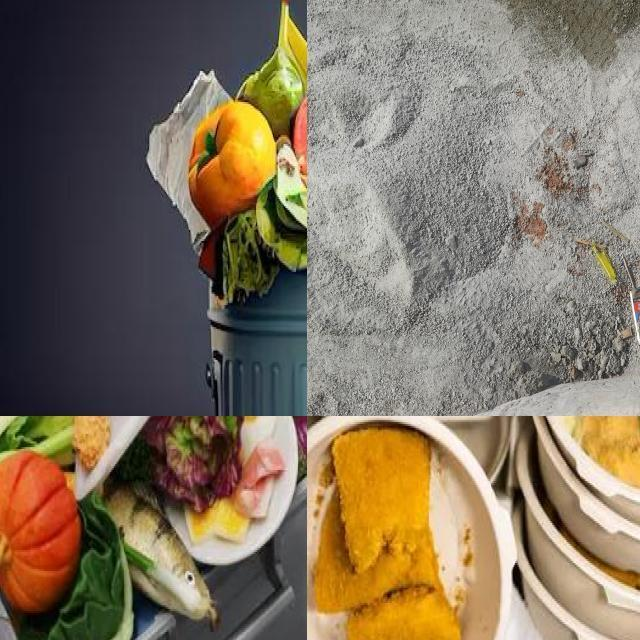Background: (307, 0, 640, 416)
Cig_pack: (630, 286, 640, 346)
Disposable: (307, 416, 514, 640), (513, 416, 640, 640)
Garbage: (307, 416, 640, 640), (0, 416, 307, 640), (140, 0, 307, 307)
Plastic: (592, 246, 617, 284)
contaminated_waste: (307, 416, 514, 640), (162, 416, 296, 564)
